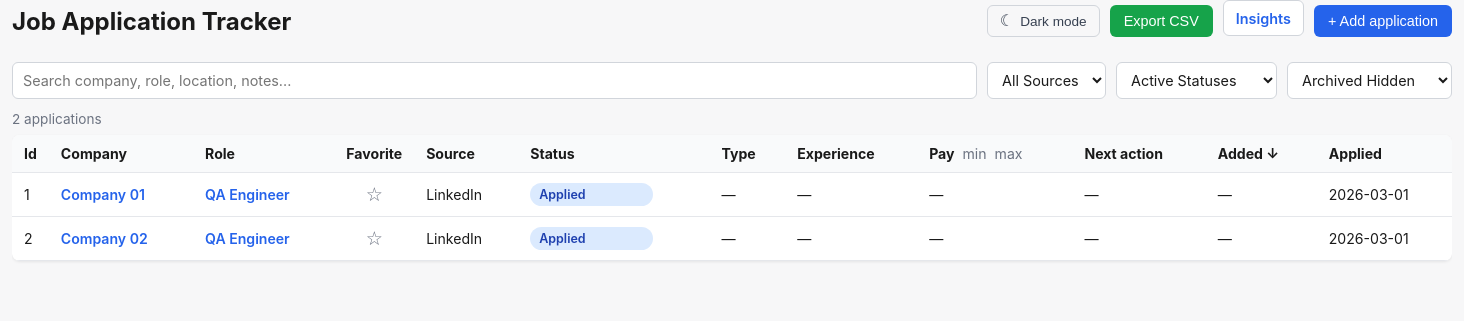
Test case: ListPage › export (KAN-39) › surfaces a failure instead of downloading a broken file
Expected: the link "Company 01" is shown, [61,186,145,203]
Click the button "Export CSV": [1161, 21] box [1110,5,1213,37]
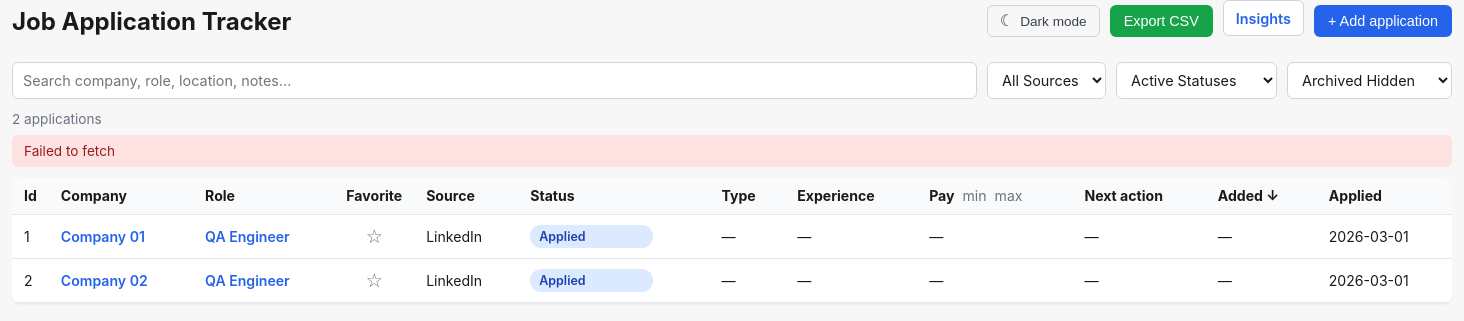
Expected: the text "Failed to fetch" is shown, [12,135,1452,167]
